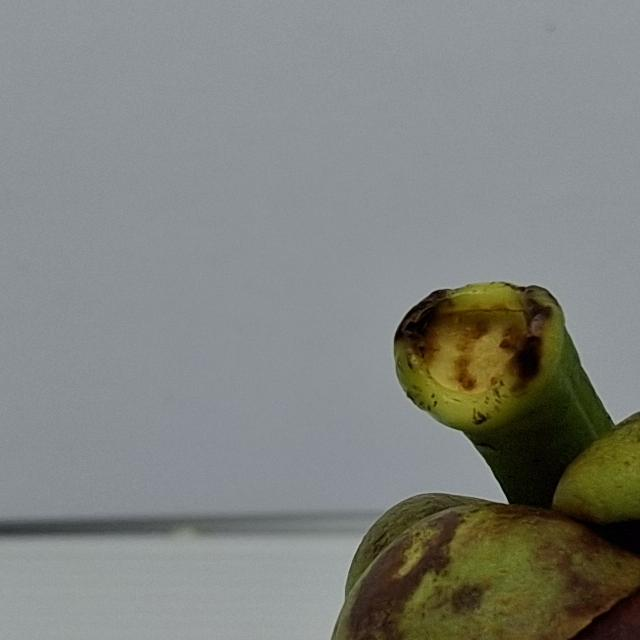mangosteen: (60, 255, 640, 640)
